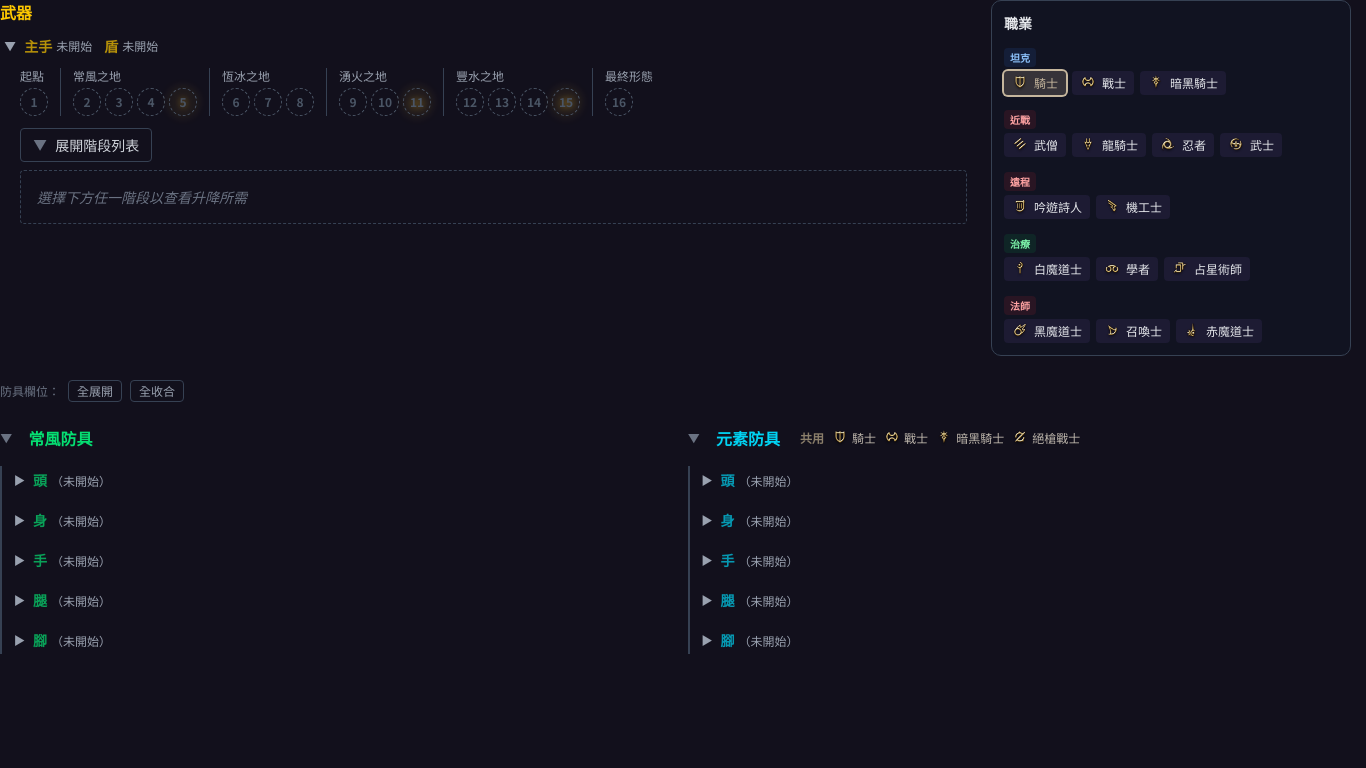
it: DetailTab › 全展開 button expands all armor slot accordions
Click the button with aria-label "展開所有防具欄位".
click(95, 391)  # box [68,380,122,402]
(page scrolled)
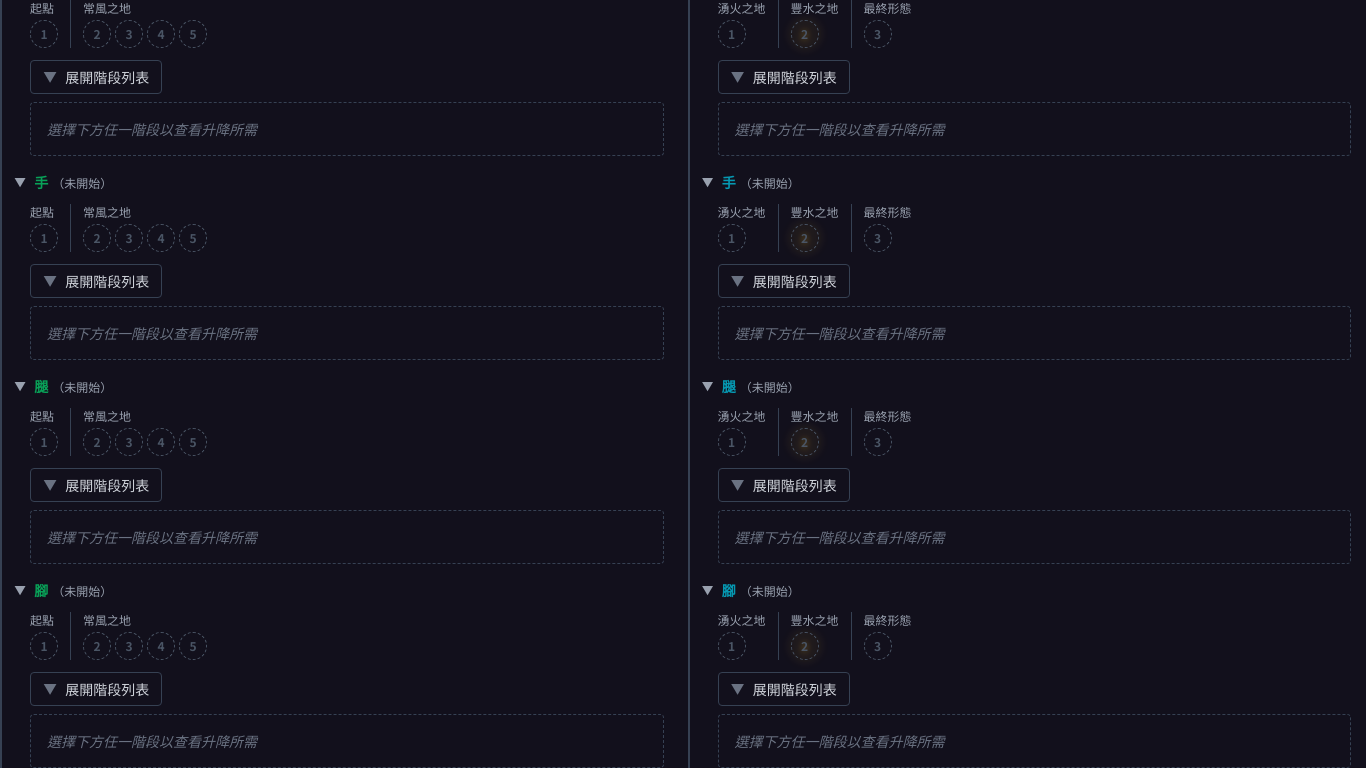
Check: the 1st button "▼ 手（未開始）" is expanded, box [10,168,664,196]
Check: the 1st button "▼ 腿（未開始）" is expanded, box [10,372,664,400]
Check: the 1st button "▼ 腳（未開始）" is expanded, box [10,576,664,604]
